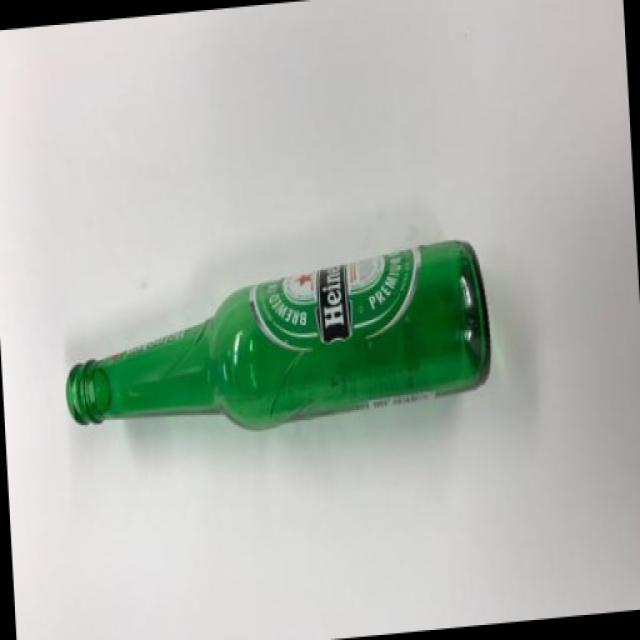vidrio: (50, 232, 564, 454)
